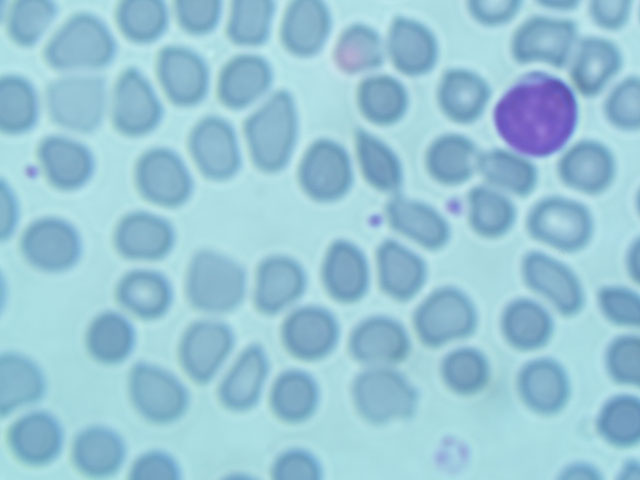Platelets: (440, 194, 471, 225), (13, 157, 42, 187), (359, 211, 390, 236)
RBC: (49, 14, 116, 74), (515, 7, 572, 69), (110, 70, 164, 132), (388, 18, 442, 80), (352, 132, 406, 194), (298, 140, 352, 202), (247, 100, 301, 162), (217, 47, 271, 109), (189, 114, 243, 176), (118, 203, 172, 265), (138, 146, 192, 208), (41, 130, 95, 192), (24, 211, 78, 273), (129, 364, 183, 426), (180, 315, 234, 377), (270, 366, 324, 428), (284, 301, 338, 363), (252, 253, 306, 315), (187, 248, 241, 310), (118, 258, 172, 320), (81, 306, 135, 368), (500, 291, 554, 353), (522, 356, 576, 418), (372, 238, 426, 300), (317, 240, 371, 302), (350, 307, 404, 369), (357, 365, 411, 427), (70, 416, 124, 478), (9, 407, 63, 469), (44, 64, 98, 126), (392, 193, 446, 255), (469, 187, 523, 249), (439, 345, 493, 407), (419, 286, 473, 348), (532, 249, 586, 311), (560, 137, 614, 199), (423, 124, 477, 186), (436, 61, 490, 123), (153, 46, 207, 108), (572, 33, 626, 95), (532, 192, 587, 246), (593, 389, 640, 450), (356, 75, 409, 123), (116, 1, 170, 45)
WBC: (490, 70, 580, 160)
